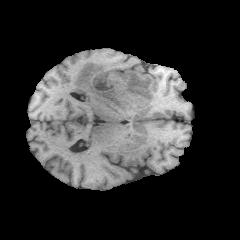glioma: (70, 63, 154, 113)
